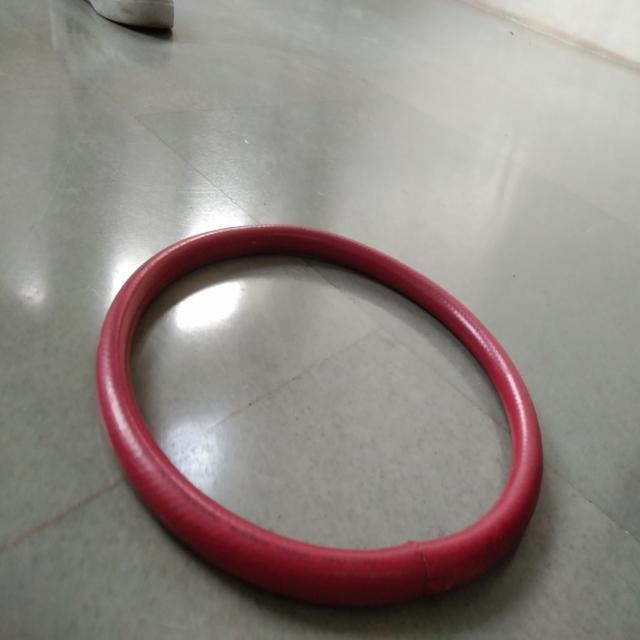daire: (104, 219, 545, 606)
